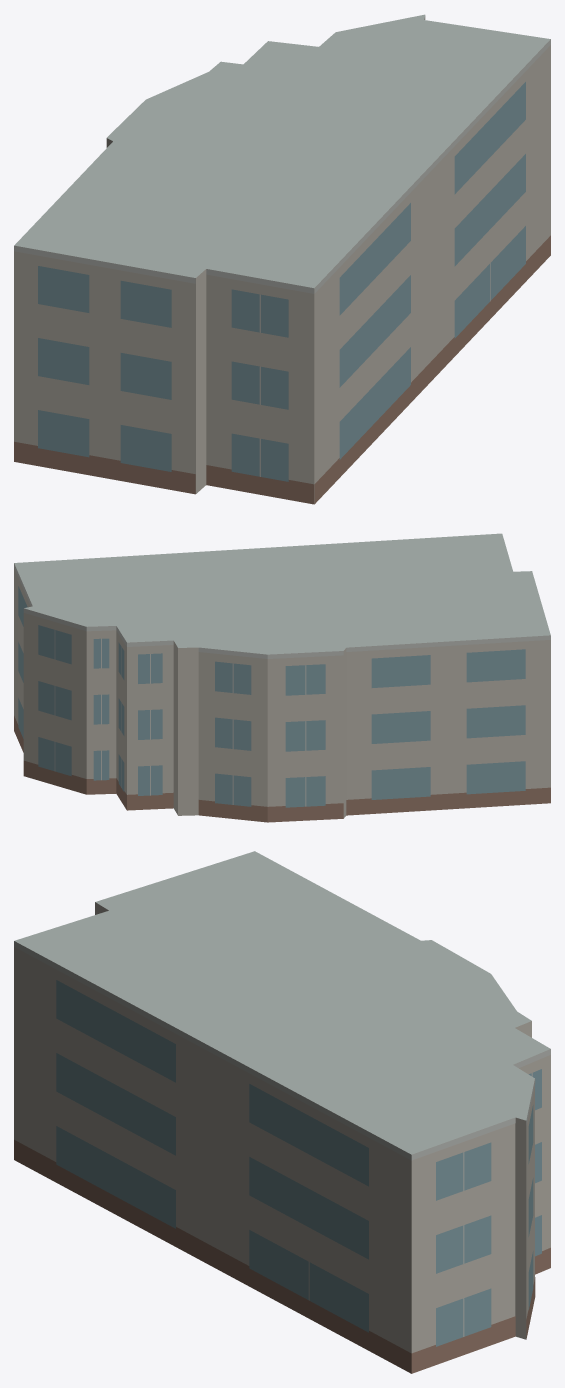
The model's file is survey-upis-32820738.glb.
3 renders of one model, top to bottom at view 1: azimuth 30°, elevation 25°; view 2: azimuth 150°, elevation 25°; view 3: azimuth 270°, elevation 25°, orthographic. The views are drawn at different scales.
Parts seen in each view (by area): view 1: survey-upis-32820738.tmp; view 2: survey-upis-32820738.tmp; view 3: survey-upis-32820738.tmp.
Boxes of the visible parts, x1,y1,x2,y2 form: survey-upis-32820738.tmp: [14, 14, 550, 504]; survey-upis-32820738.tmp: [14, 533, 550, 822]; survey-upis-32820738.tmp: [14, 851, 550, 1373].
Bounding box in the file's own units: 27.2 × 9.15 × 20.33.
